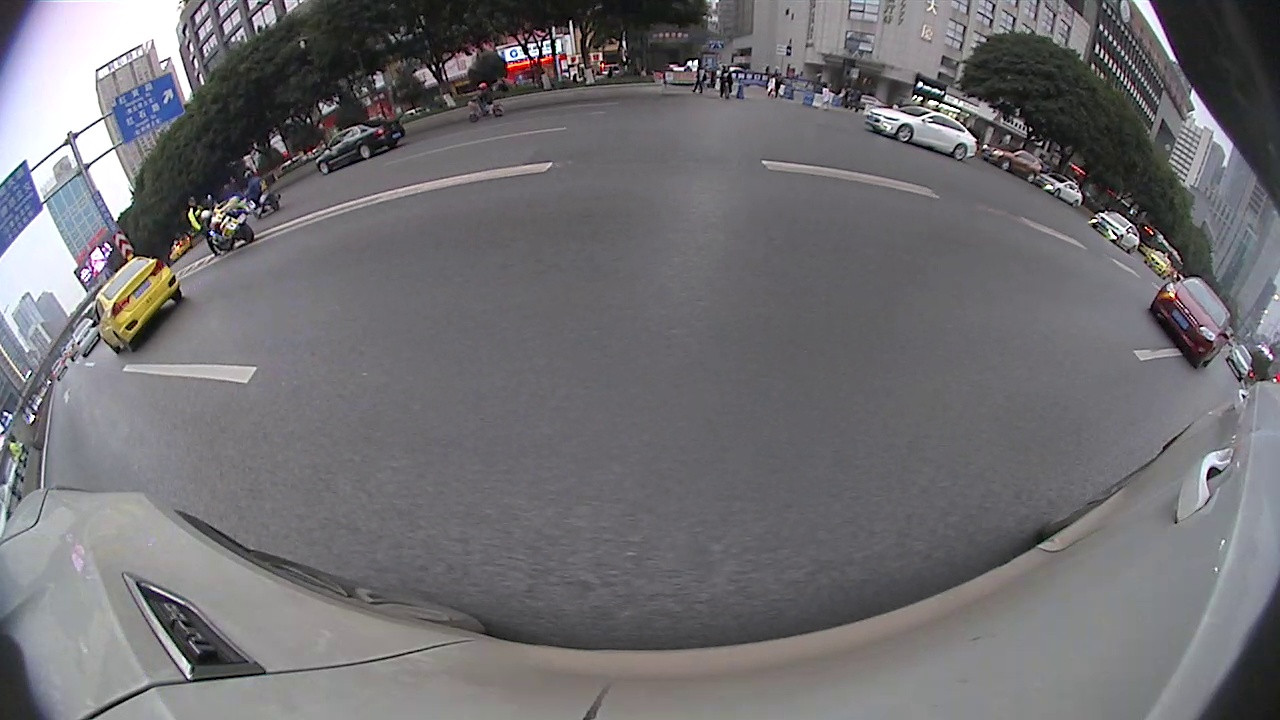car: (89, 254, 182, 357), (1150, 278, 1230, 371), (864, 107, 977, 162), (315, 119, 407, 175), (981, 143, 1042, 182), (1089, 211, 1139, 255), (1030, 174, 1083, 209)
front: (899, 125, 911, 141), (317, 159, 328, 174)
person: (187, 189, 218, 259)
rear: (953, 144, 967, 161), (360, 145, 371, 158)
rider: (202, 208, 255, 255), (241, 166, 282, 220), (466, 81, 507, 125)
